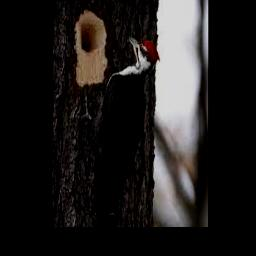Woodpecker: (78, 36, 160, 226)
